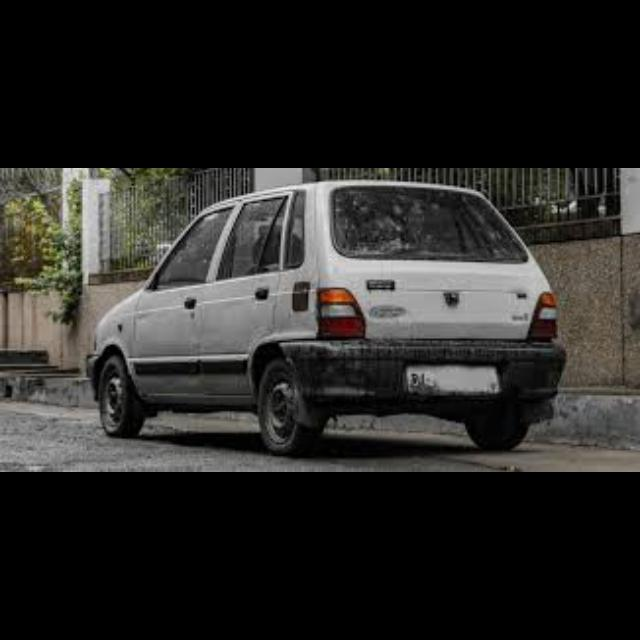vehicles: (78, 182, 572, 458)
